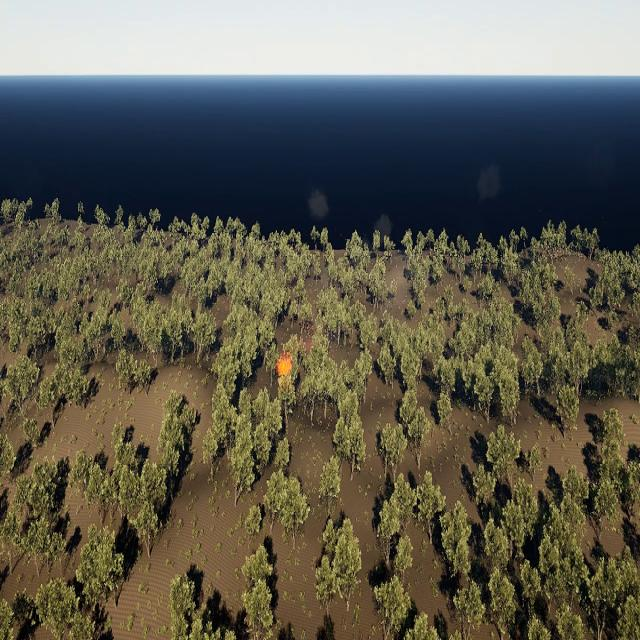fire: (277, 354, 292, 375)
smoke: (475, 164, 503, 205), (308, 191, 332, 225), (376, 214, 392, 240)
